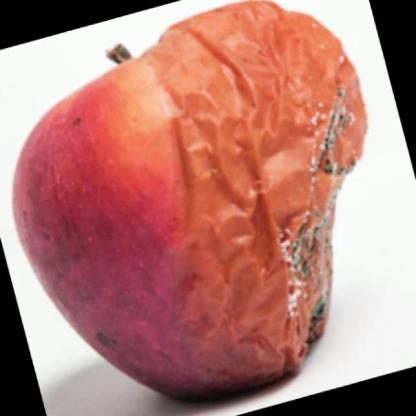defect: (167, 28, 394, 367)
